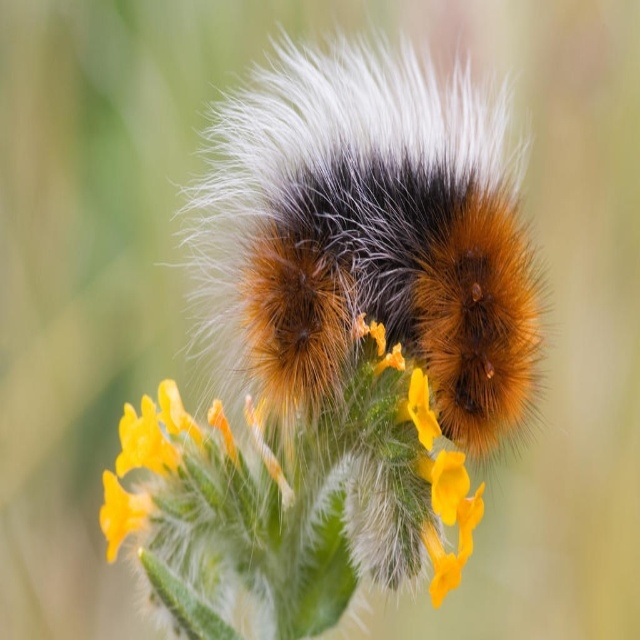Caterpillar: (152, 21, 564, 569)
